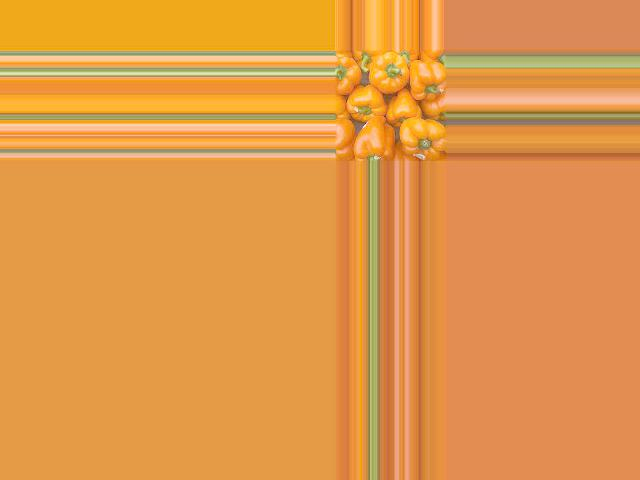bell_pepper: (336, 117, 354, 162)
